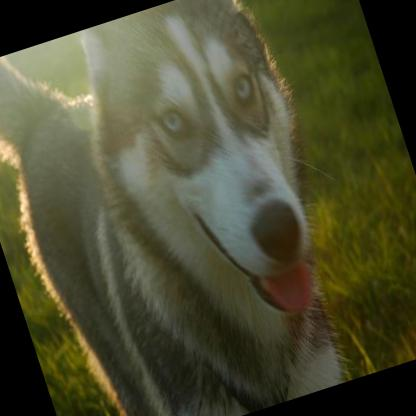Eskimo_dog: (0, 0, 377, 416)
